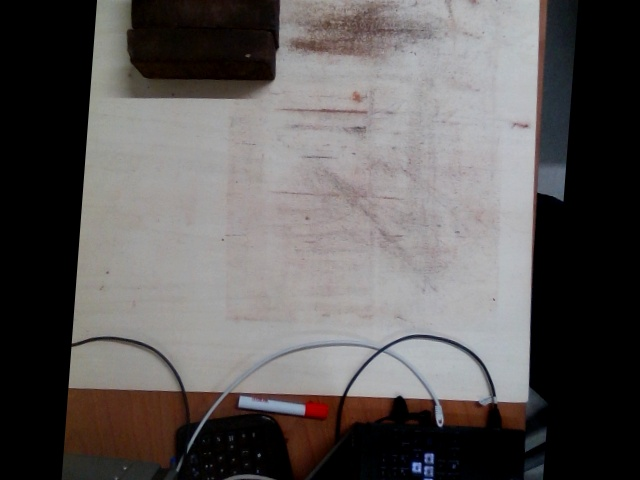brick-side: (127, 25, 267, 62)
